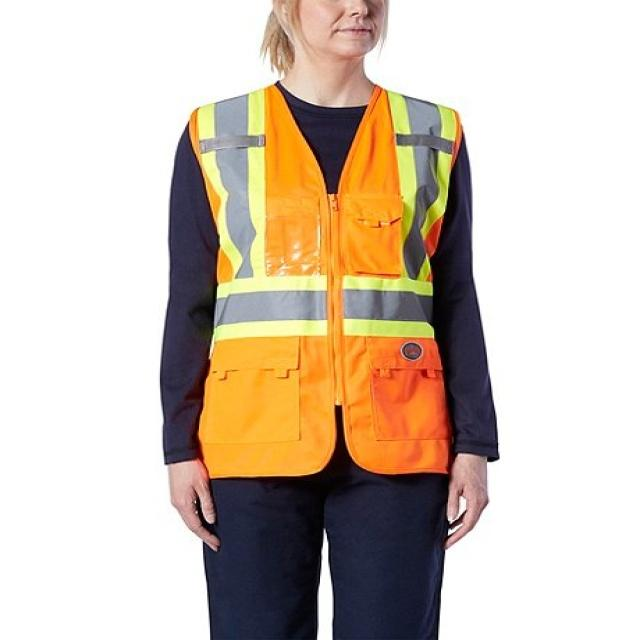vest: (182, 108, 464, 639)
